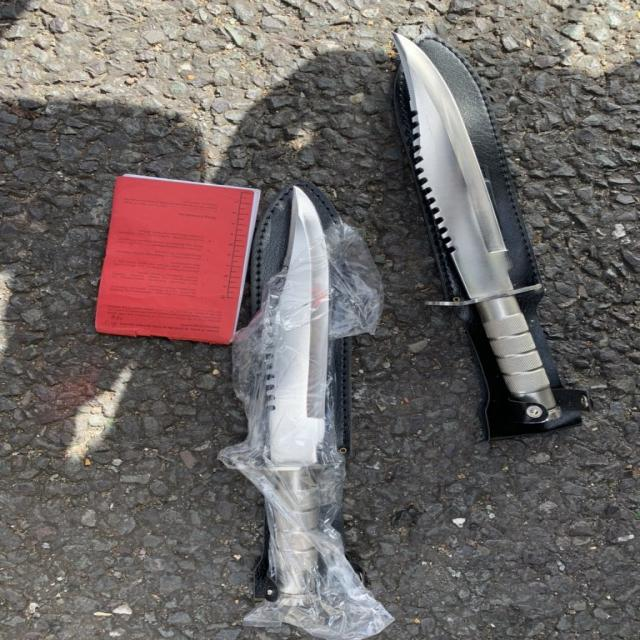Sharp-Object: (389, 33, 568, 430), (260, 184, 370, 620)
